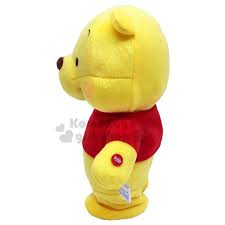Winnie: (56, 7, 176, 153)
